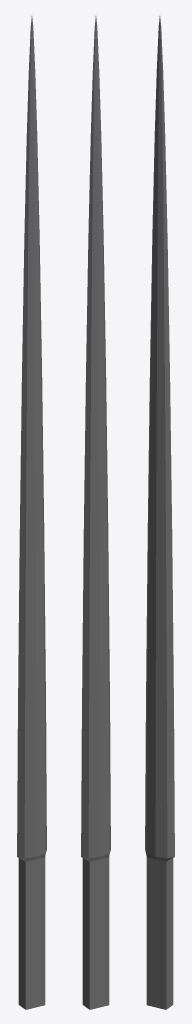
Rendered from ModularSwordKit_Klinge02.fbx.
The picture shows the model from 3 angles, left to right: view 1: azimuth 30°, elevation 25°; view 2: azimuth 210°, elevation 25°; view 3: azimuth 330°, elevation 25°; orthographic projection.
Parts seen in each view (by area): view 1: Klinge02; view 2: Klinge02; view 3: Klinge02.
Part boxes in pixels (x1=…): Klinge02: x1=17, y1=16, x2=46, y2=1009; Klinge02: x1=81, y1=16, x2=110, y2=1009; Klinge02: x1=145, y1=16, x2=174, y2=1009.
Bounding box in the file's own units: 12.33 × 390 × 6.56.
